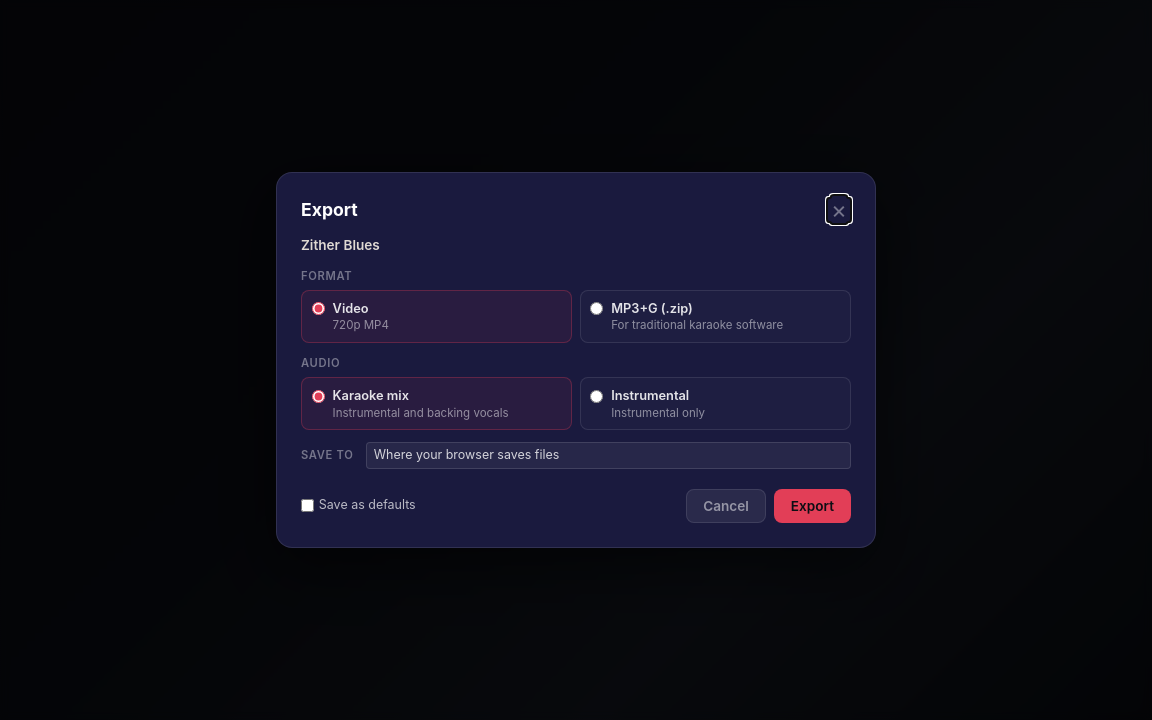
Scenario: video format › shows the server refusal when the session cannot open
The width and height of the screenshot is (1152, 720).
Click the button "Export" at (812, 506), box [774,489,851,523]
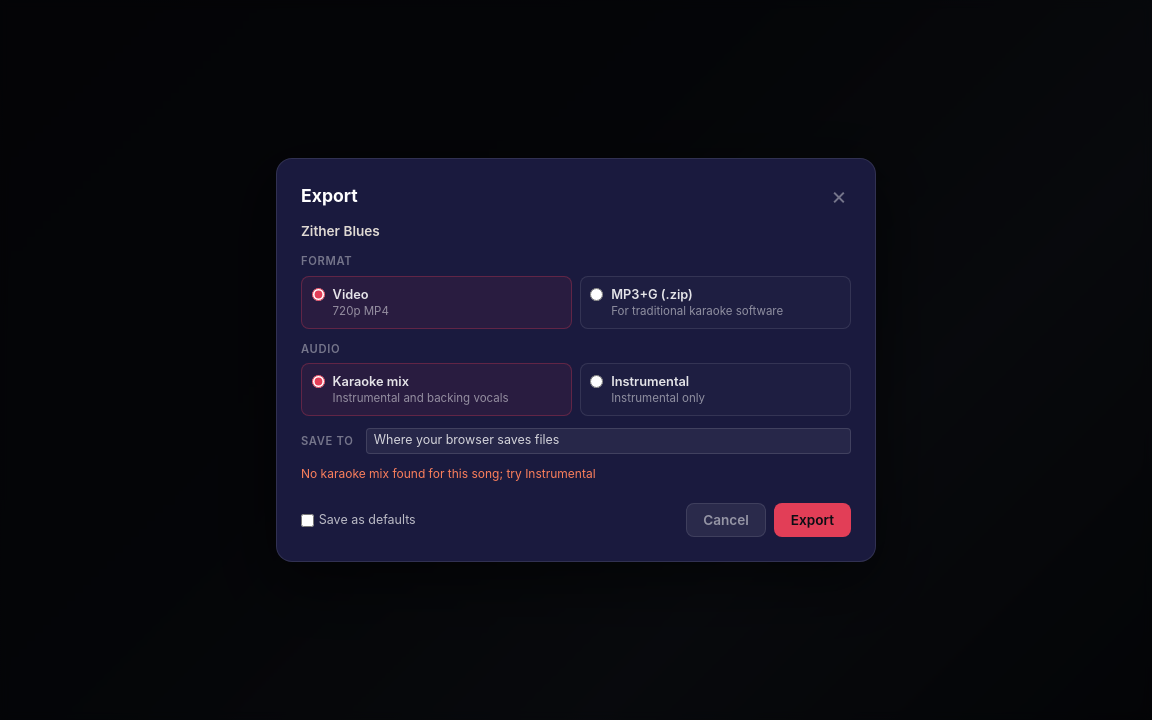
Now the text with class "export-error" reads "No karaoke mix found for this song; try Instrumental", box [301,466,596,481]
